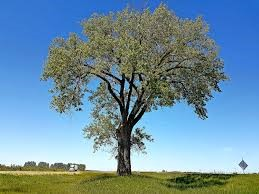grass: (0, 173, 258, 192)
tree: (114, 104, 145, 175)
